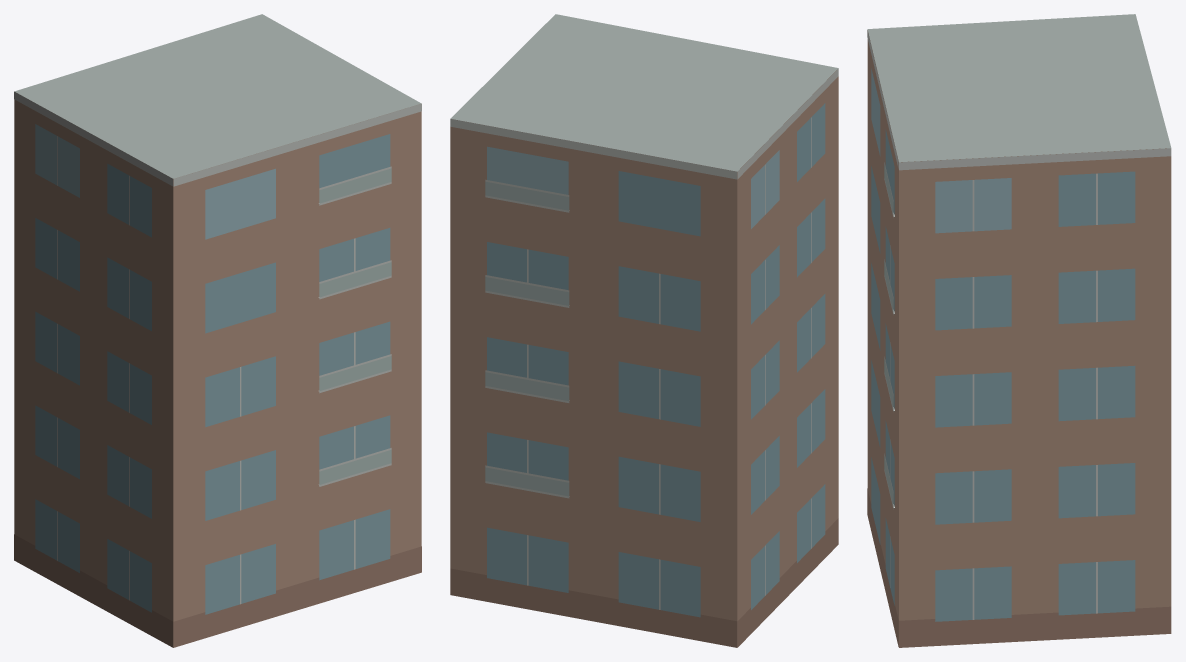
File: survey-upis-32738369.glb
3 renders of one model, left to right at view 1: azimuth 30°, elevation 25°; view 2: azimuth 150°, elevation 25°; view 3: azimuth 270°, elevation 25°, orthographic. The views are drawn at different scales.
Parts seen in each view (by area): view 1: survey-upis-32738369.tmp; view 2: survey-upis-32738369.tmp; view 3: survey-upis-32738369.tmp.
Boxes of the visible parts, x1,y1,x2,y2 form: survey-upis-32738369.tmp: [14, 14, 421, 647]; survey-upis-32738369.tmp: [450, 14, 838, 647]; survey-upis-32738369.tmp: [867, 14, 1171, 647].
Bounding box in the file's own units: 9.57 × 14.6 × 8.29.
